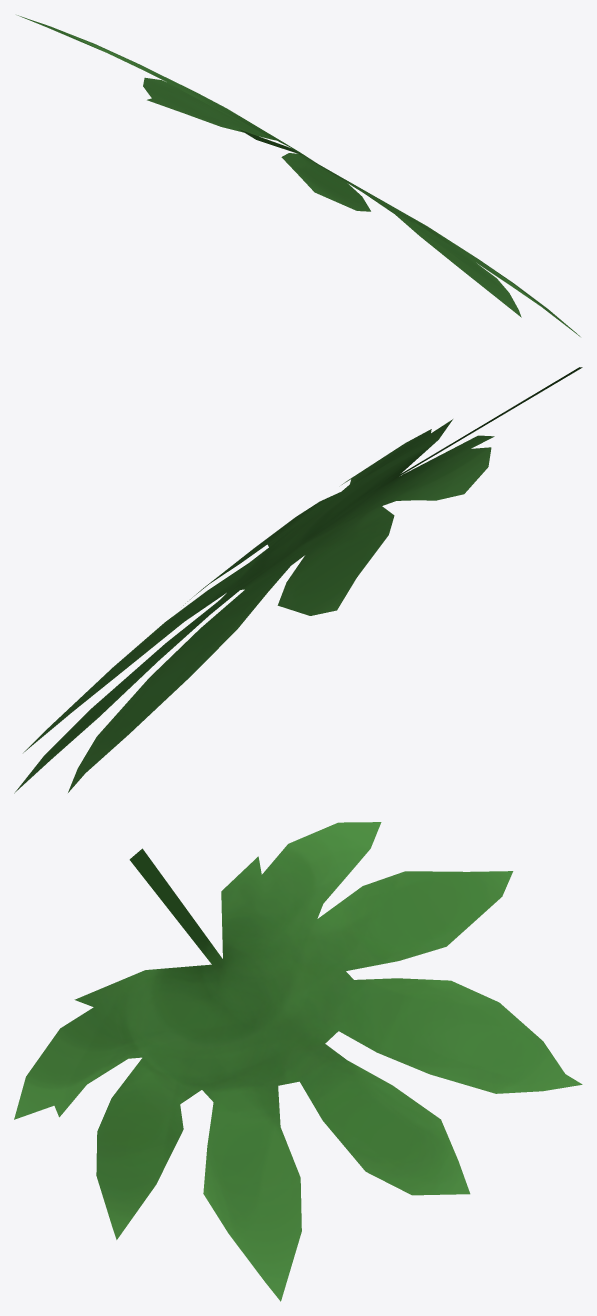
The model's file is Leaf_001_Particle_001.fbx.
The picture shows the model from 3 angles, top to bottom: view 1: azimuth 30°, elevation 25°; view 2: azimuth 150°, elevation 25°; view 3: azimuth 270°, elevation 25°; orthographic projection. The views are drawn at different scales.
Visible parts, largest first — view 1: Leaf_001_Particle_001; view 2: Leaf_001_Particle_001; view 3: Leaf_001_Particle_001.
Boxes of the visible parts, box(x1,y1,x2,y2) form: Leaf_001_Particle_001: box(17, 15, 580, 336); Leaf_001_Particle_001: box(14, 367, 582, 793); Leaf_001_Particle_001: box(14, 822, 582, 1301).
Size of the model in its own units: 116 by 95.37 by 160.
